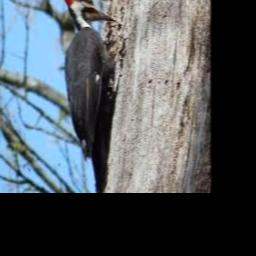Woodpecker: (57, 0, 119, 160)
